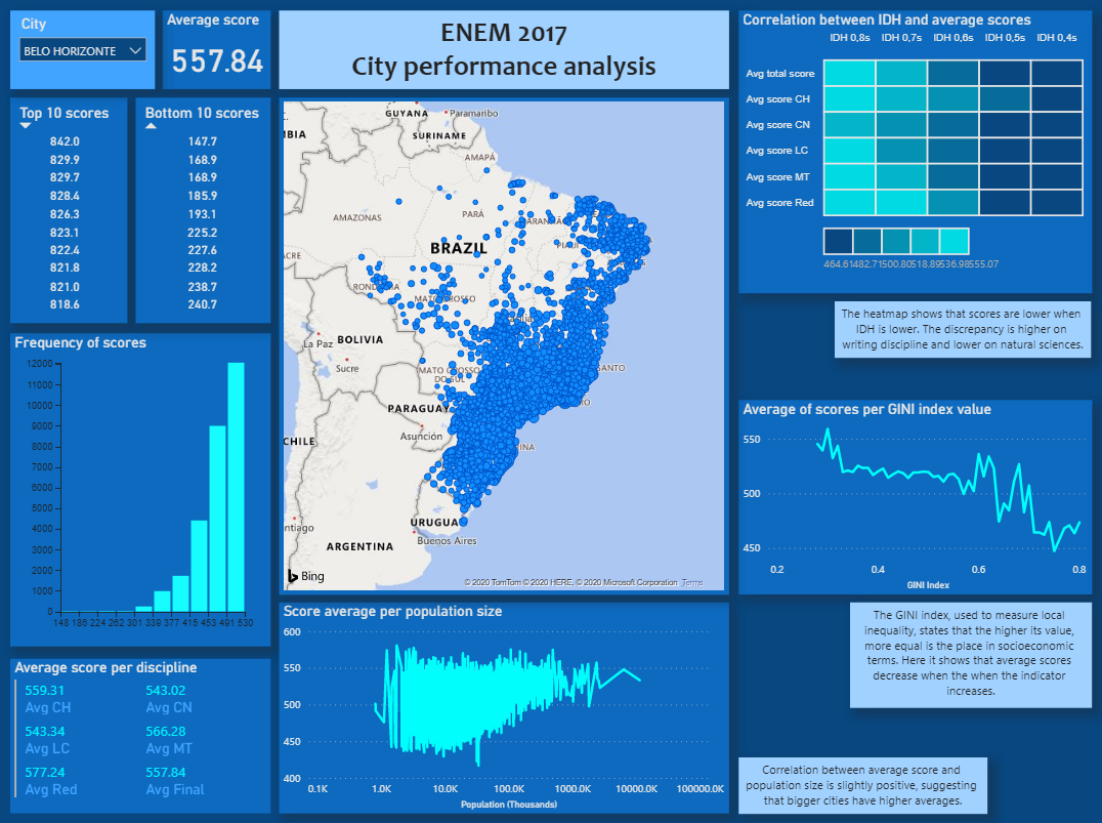

What the dashboard file says about the page in this screenshot:
{"tool":"powerbi","page":{"name":"Dashboard","canvas":[1280,960],"ordinal":0},"visuals":[{"type":"card","title":"Average score","fields":{"Values":["Avg(notas.nota_final)"]},"box":[188.5,14.1,125.7,91.1],"z":0},{"type":"Histogram1445664487616","title":"Frequency of scores","fields":{"Frequency":["CountNonNull(notas.nu_inscricao)"],"Values":["notas.nota_final"]},"box":[11.5,387.3,302.7,363],"z":1000},{"type":"tableEx","title":"Top 10 scores","fields":{"Values":["notas.nota_final"]},"box":[11.5,114.1,136,261.6],"z":2000},{"type":"slicer","fields":{"Values":["cities.nm_municip"]},"box":[11.5,14.1,168,91.1],"z":3000},{"type":"lineChart","title":"Score average per population size","fields":{"Category":["cities.populacao"],"Y":["Avg(notas.nota_final)"]},"box":[324.5,700.3,522,245],"z":4000},{"type":"lineChart","title":"Average of scores per GINI index value","fields":{"Category":["cities.gini"],"Y":["Avg(notas.nota_final)"]},"box":[856.8,465.6,410.4,225.7],"z":5000},{"type":"tableEx","title":"Top 10 scores","fields":{"Values":["notas.nota_final"]},"box":[157.8,114.1,156.5,261.6],"z":6000},{"type":"TableHeatMap1443716069308","title":"Correlation between IDH and average scores","fields":{"Y":["Avg(notas.nota_final)","Avg(notas.nota_ch)","Avg(notas.nota_cn)","Avg(notas.nota_lc)","Avg(notas.nota_mt)","Avg(notas.nota_redacao)"],"Category":["cities.idhm (groups)"]},"box":[856.8,14.1,410.4,328.3],"z":7000},{"type":"textbox","box":[324.5,14.1,522,91.1],"z":9000},{"type":"multiRowCard","title":"Average score per discipline","fields":{"Values":["Avg(notas.nota_ch)","Avg(notas.nota_cn)","Avg(notas.nota_lc)","Avg(notas.nota_mt)","Avg(notas.nota_redacao)","Avg(notas.nota_final Hierarchy.nota_final)"]},"box":[11.5,765.7,302.7,179.6],"z":10000},{"type":"textbox","box":[856.8,879.8,288.6,65.4],"z":11000},{"type":"textbox","box":[986.3,700.3,280.9,98.8],"z":12000},{"type":"textbox","box":[969.6,351.4,297.6,65.4],"z":12001},{"type":"map","fields":{"Y":["cities.lat"],"X":["cities.long"],"Category":["cities.nm_municip"],"Size":["Avg(notas.nota_final)"]},"box":[324.5,114.1,522,577.2],"z":12002}]}

Visuals, with their boxes in screenshot pixels (x1, y1, x2, y2), scaled from the page's 1280x960 canvas onto the 1102x823 screenshot:
"Average score" card: [162,12,271,90]
"Frequency of scores" Histogram1445664487616: [10,332,271,643]
"Top 10 scores" tableEx: [10,98,127,322]
slicer - cities.nm_municip: [10,12,155,90]
"Score average per population size" lineChart: [279,600,729,810]
"Average of scores per GINI index value" lineChart: [738,399,1091,593]
"Top 10 scores" tableEx: [136,98,271,322]
"Correlation between IDH and average scores" TableHeatMap1443716069308: [738,12,1091,294]
textbox: [279,12,729,90]
"Average score per discipline" multiRowCard: [10,656,271,810]
textbox: [738,754,986,810]
textbox: [849,600,1091,685]
textbox: [835,301,1091,357]
map - cities.lat x cities.long: [279,98,729,593]
